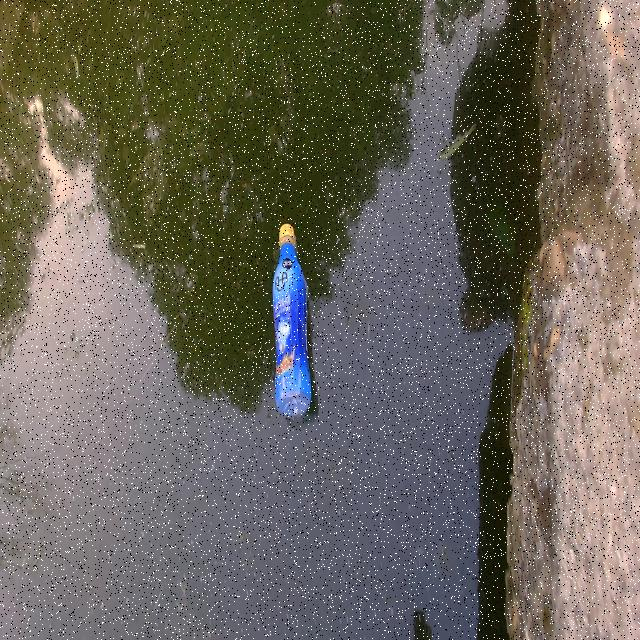Bottle: (270, 218, 314, 422)
